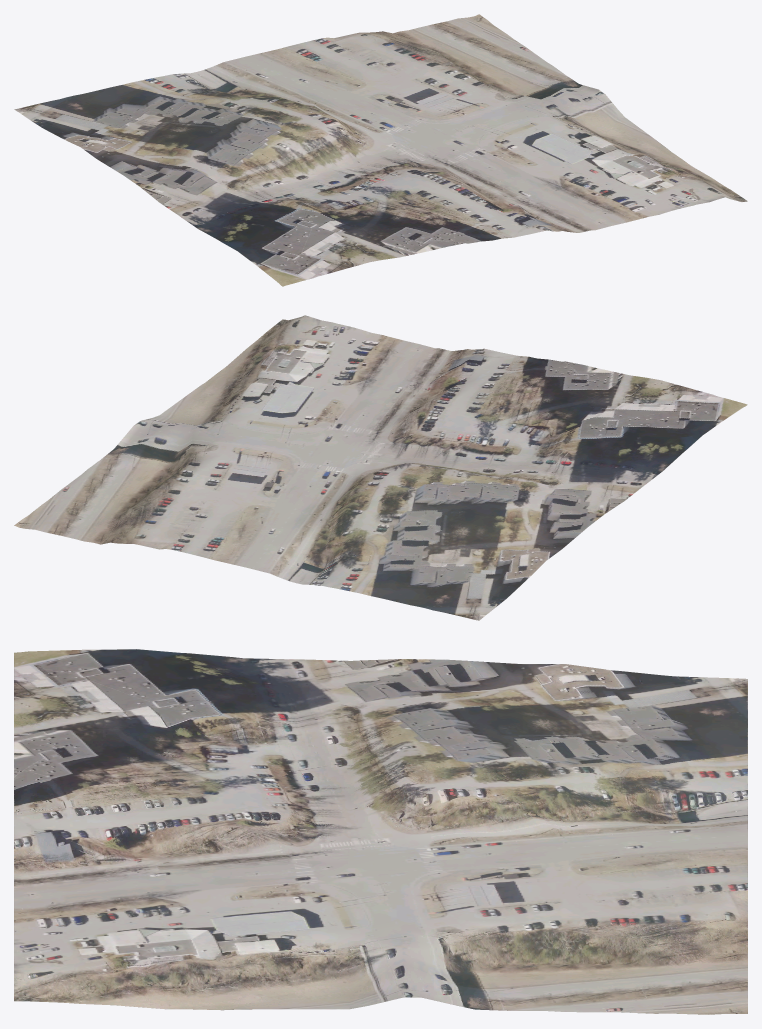
File: CM_Terrain_24491687_6816108.fbx
3 renders of one model, top to bottom at view 1: azimuth 30°, elevation 25°; view 2: azimuth 150°, elevation 25°; view 3: azimuth 270°, elevation 25°, orthographic. The views are drawn at different scales.
Visible parts, largest first — view 1: CM_Terrain_24491687_6816108_LOD0; view 2: CM_Terrain_24491687_6816108_LOD0; view 3: CM_Terrain_24491687_6816108_LOD0.
Boxes of the visible parts, x1,y1,x2,y2 form: CM_Terrain_24491687_6816108_LOD0: (14, 14, 747, 286); CM_Terrain_24491687_6816108_LOD0: (14, 315, 747, 620); CM_Terrain_24491687_6816108_LOD0: (14, 649, 747, 1014).
Size of what is drawn, in the model's own units: 205 by 17.74 by 205.
